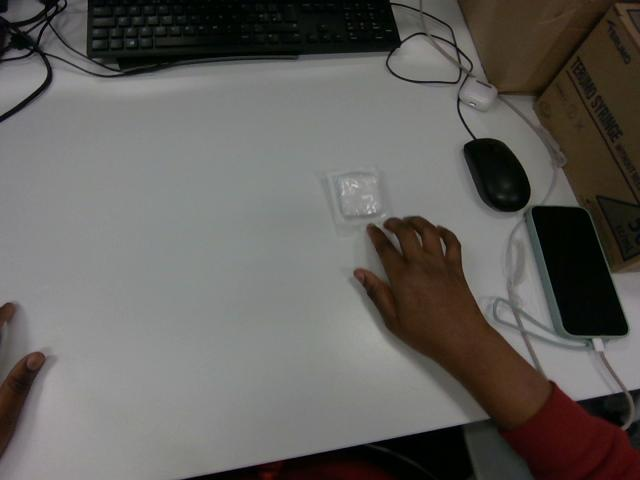gauze: (323, 167, 389, 235)
